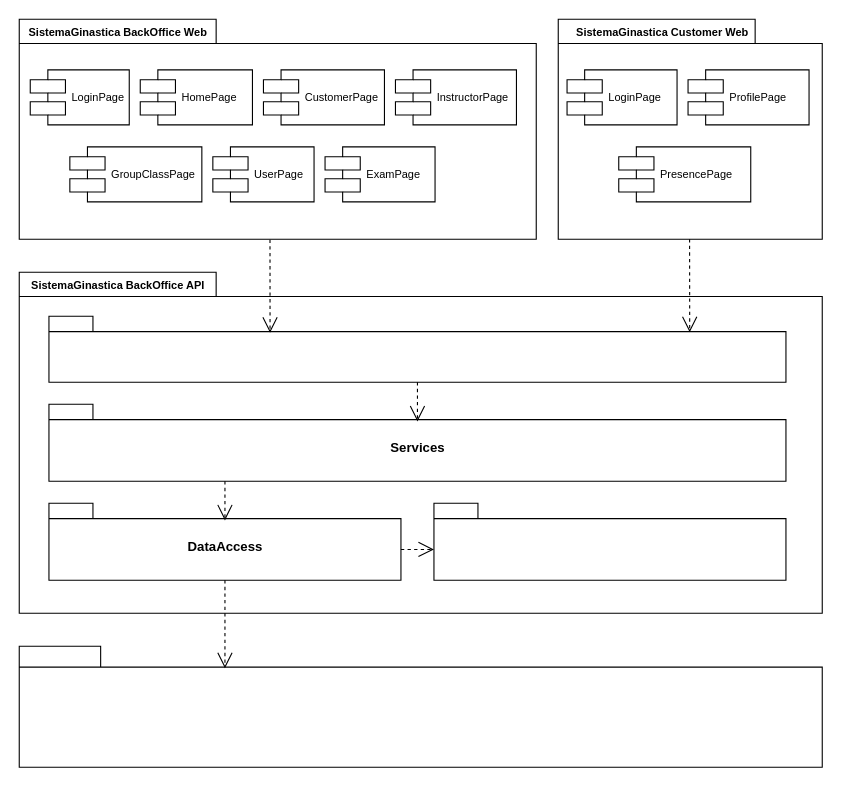
The diagram is 842 pixels wide and 787 high, and some of its shapes have lost their labels. Each missing label, with the centre of its shape:
Banco de Dados: pixel 420 706
Controllers: pixel 417 348
DomainModel: pixel 609 541
